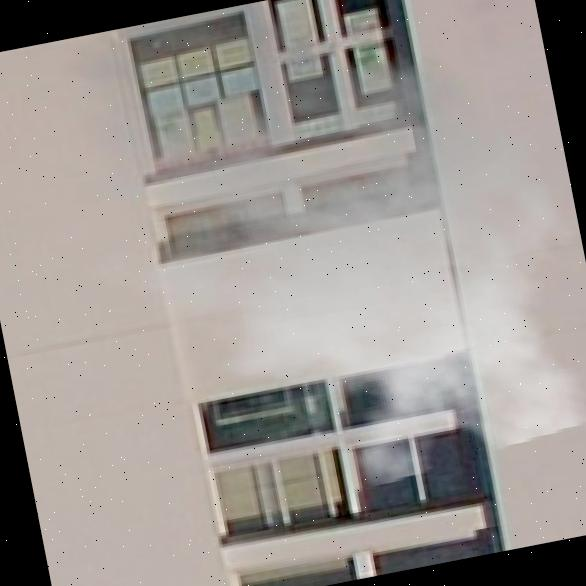smoke: (238, 164, 467, 430)
